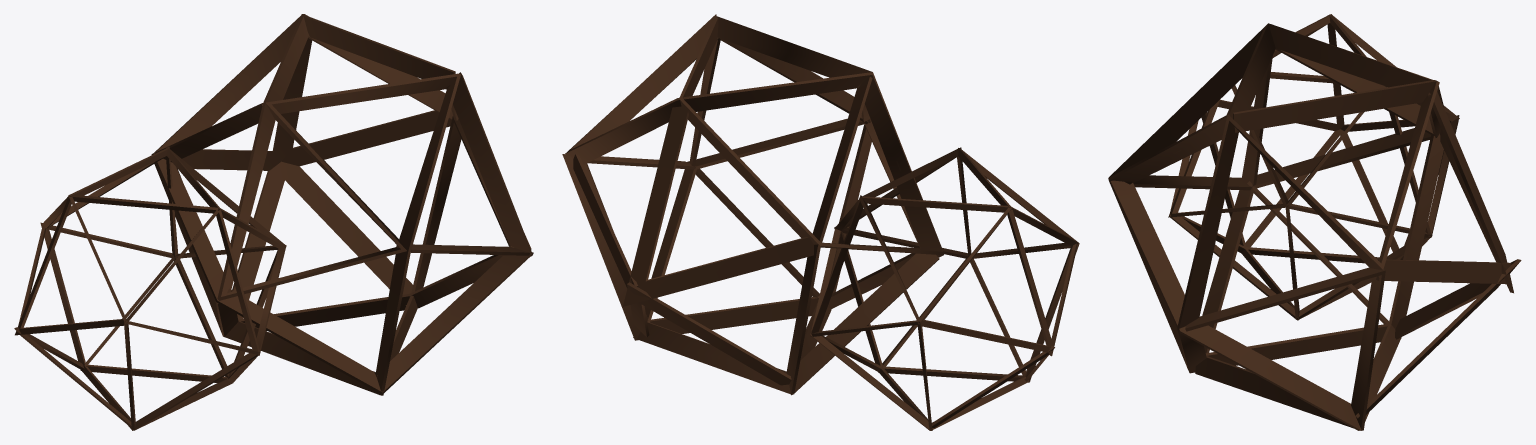
The model's file is cgt_Accessory_91_001.fbx.
The picture shows the model from 3 angles, left to right: view 1: azimuth 30°, elevation 25°; view 2: azimuth 150°, elevation 25°; view 3: azimuth 270°, elevation 25°; orthographic projection. The views are drawn at different scales.
Parts seen in each view (by area): view 1: cgt_Accessory_91_001; view 2: cgt_Accessory_91_001; view 3: cgt_Accessory_91_001.
Part boxes in pixels (x1,y1,x2,y2): cgt_Accessory_91_001: (14,14,533,430); cgt_Accessory_91_001: (562,14,1079,430); cgt_Accessory_91_001: (1108,14,1521,430).
Size of the model in its own units: 43.71 by 30.74 by 25.47.
